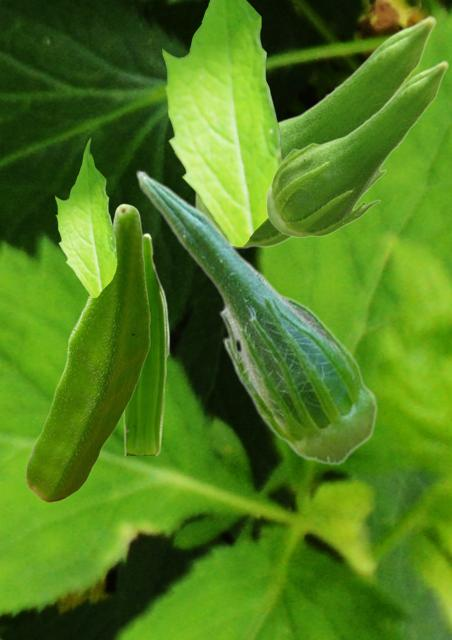okra: (135, 169, 377, 464), (194, 15, 436, 248), (25, 203, 149, 501), (265, 60, 448, 237), (123, 232, 169, 454)
